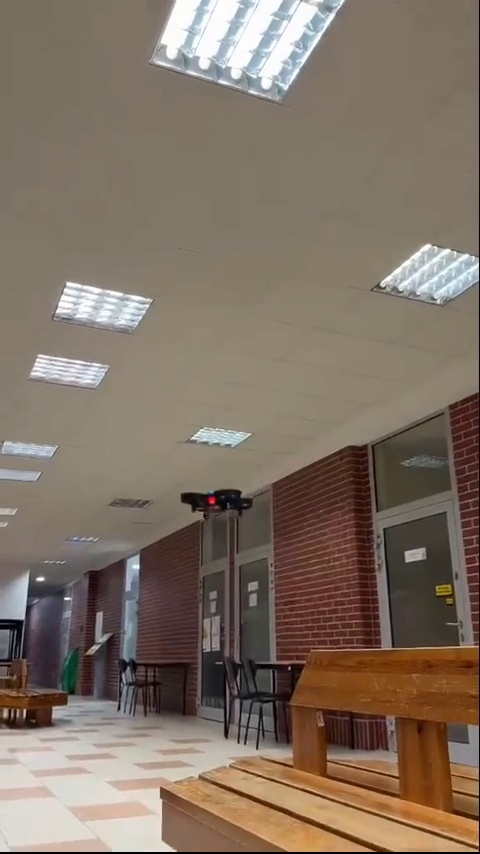drone: (176, 482, 260, 526)
